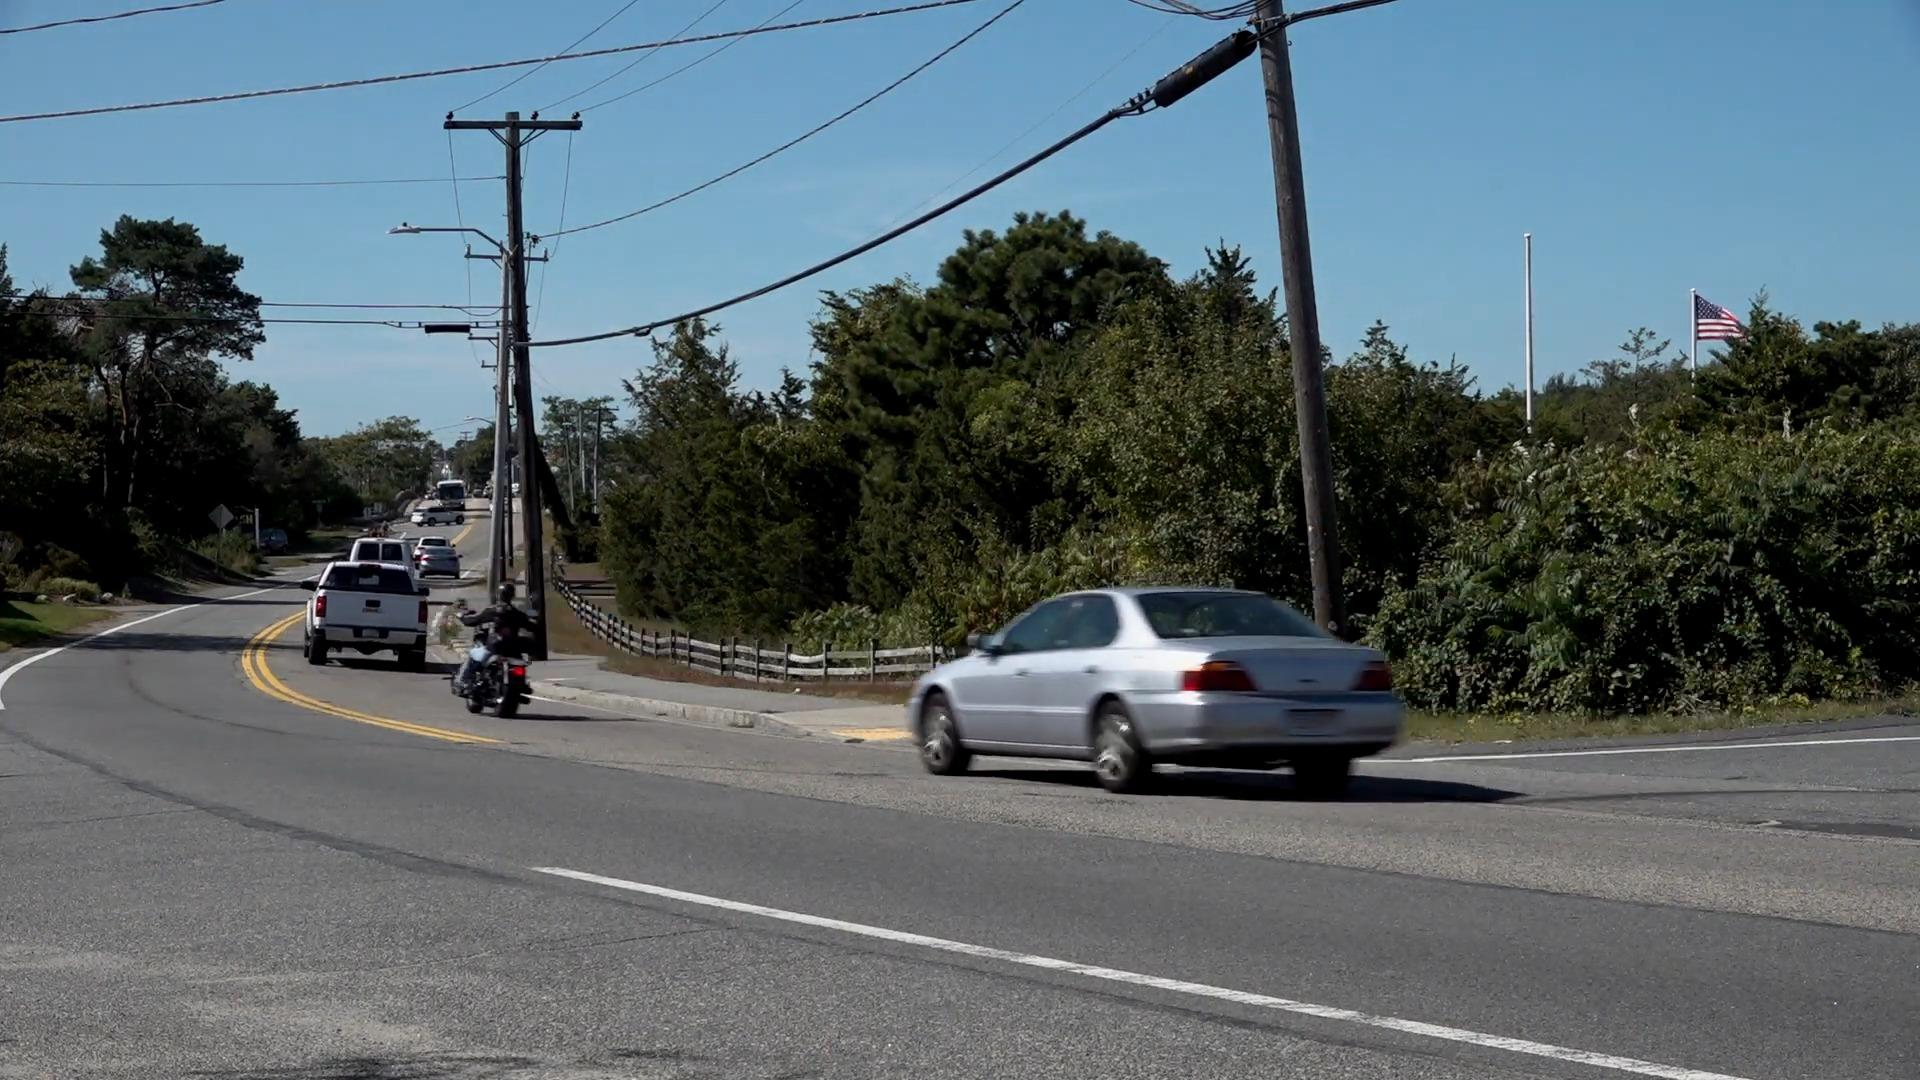pickup: (307, 559, 433, 670)
sedans: (907, 585, 1406, 787)
